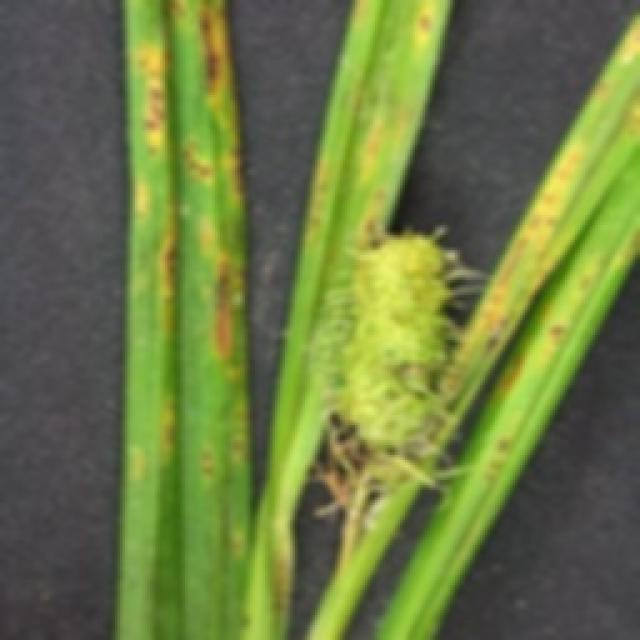Elderberry_rust: (308, 215, 488, 527)
